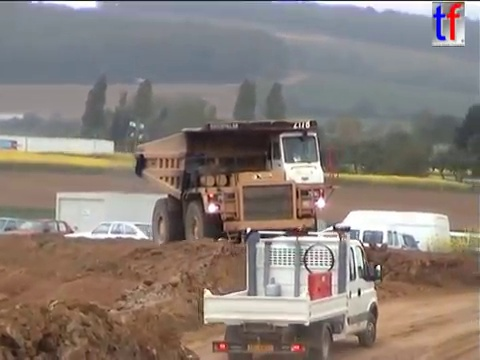truck: (132, 116, 342, 259), (200, 225, 386, 360)
